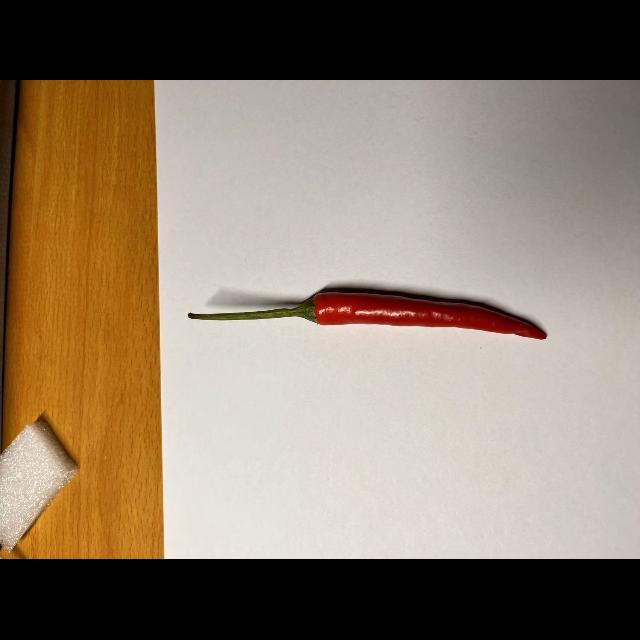chili_pepper: (181, 268, 553, 350)
